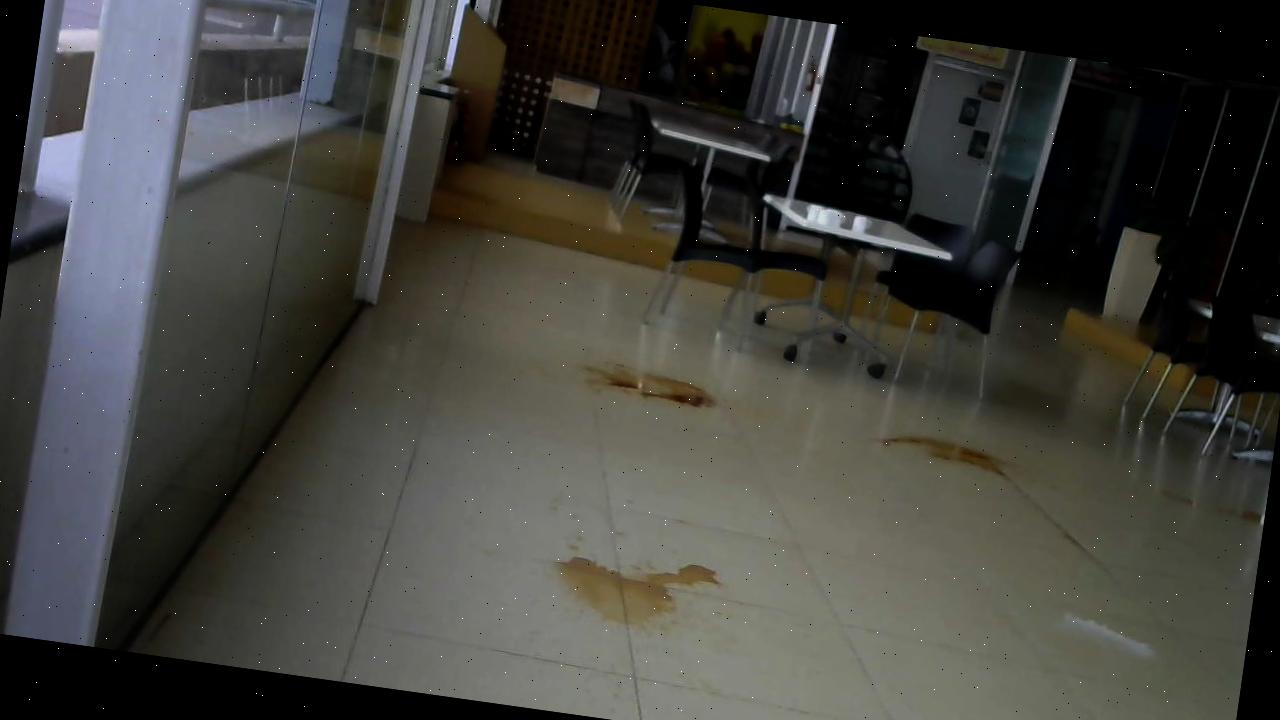dirty_floor: (542, 532, 724, 636), (576, 349, 727, 419), (868, 425, 1026, 487), (1052, 604, 1166, 666), (1148, 483, 1266, 536)
